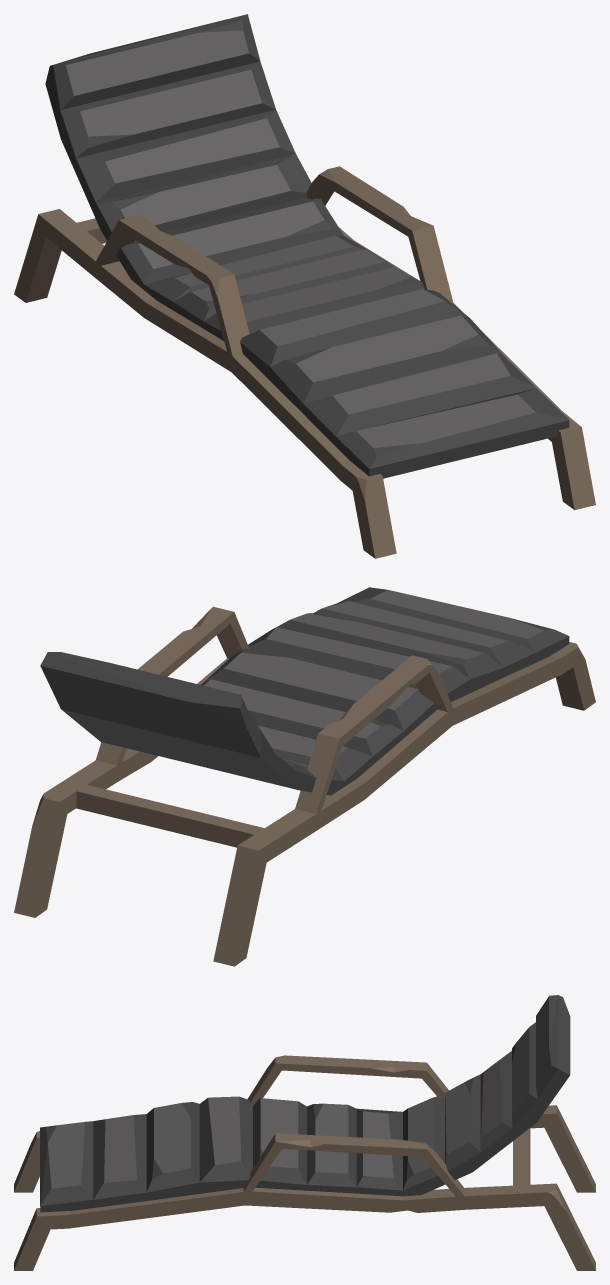
File: SM_Prop_Deckchair_04.fbx
3 renders of one model, top to bottom at view 1: azimuth 30°, elevation 25°; view 2: azimuth 150°, elevation 25°; view 3: azimuth 270°, elevation 25°, orthographic. The views are drawn at different scales.
Visible parts, largest first — view 1: SM_Prop_Deckchair_04; view 2: SM_Prop_Deckchair_04; view 3: SM_Prop_Deckchair_04.
Part boxes in pixels (x1,y1,x2,y2): SM_Prop_Deckchair_04: [14, 14, 595, 558]; SM_Prop_Deckchair_04: [14, 587, 595, 966]; SM_Prop_Deckchair_04: [14, 995, 595, 1270].
Bounding box in the file's own units: 83.44 × 88.94 × 237.
